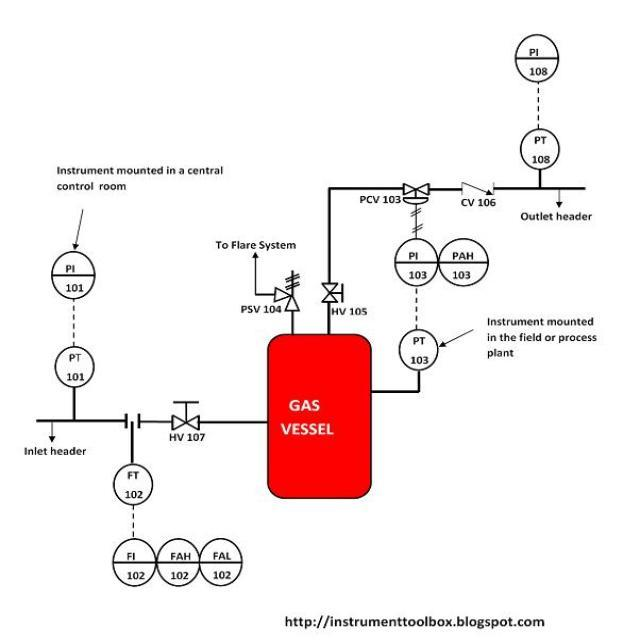Check Valve: (453, 172, 504, 196)
Hand Operated Gate Valve: (162, 387, 213, 433), (316, 276, 347, 306)
Orifice: (118, 406, 150, 442)
PSV: (264, 262, 312, 314)
Pneumatic-Diaphragm Gate Valve: (398, 170, 440, 203)
